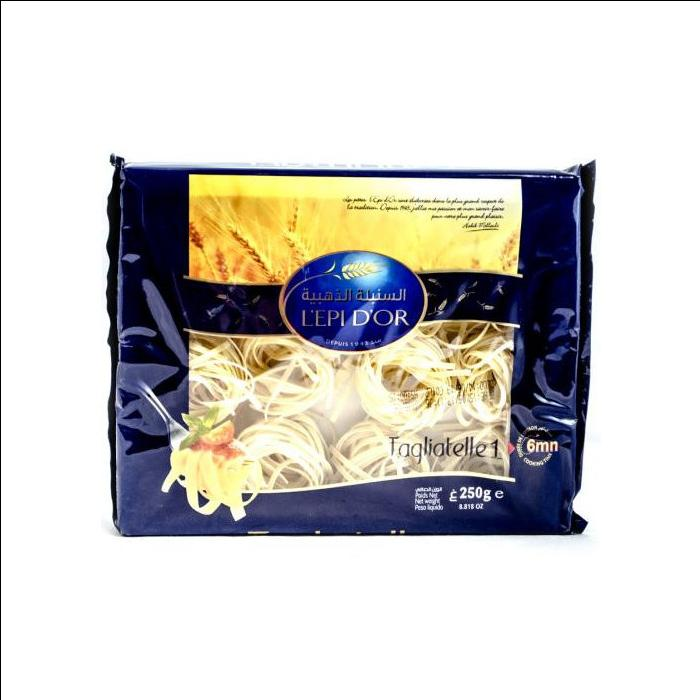Tagliatelle: (119, 167, 592, 532)
